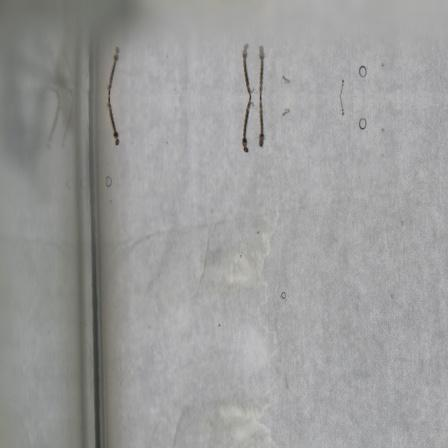Jentik-Nyamuk: (106, 97, 122, 150), (239, 100, 254, 156), (255, 102, 268, 150)
